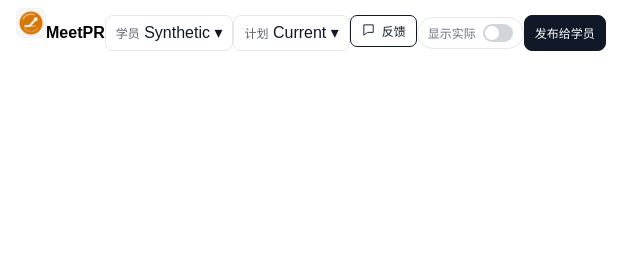
Test case: plan editor context bar › marks the whole current plan row and offers the new-plan action in zh
Click the button "计划 Current ▾": (292, 32) [234,14,350,50]
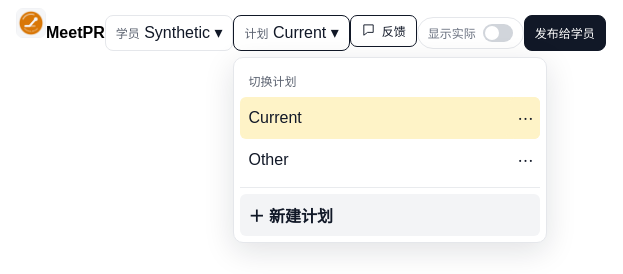
Click the menu item "＋ 新建计划": (291, 216) [240,194,540,236]
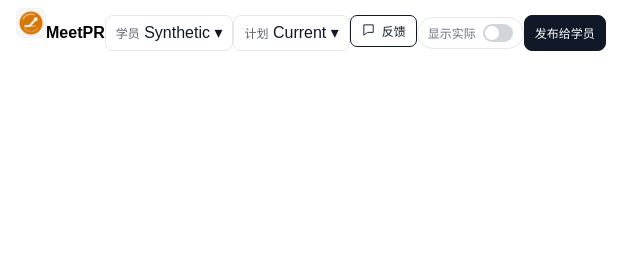
Result: the button "⋯" is gone
